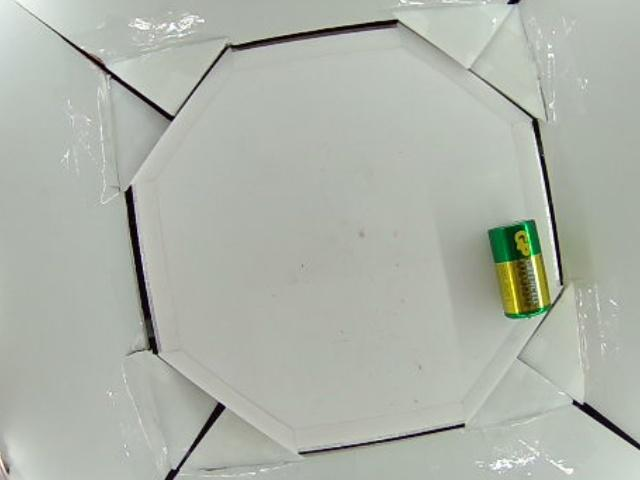Battery: (487, 219, 554, 319)
